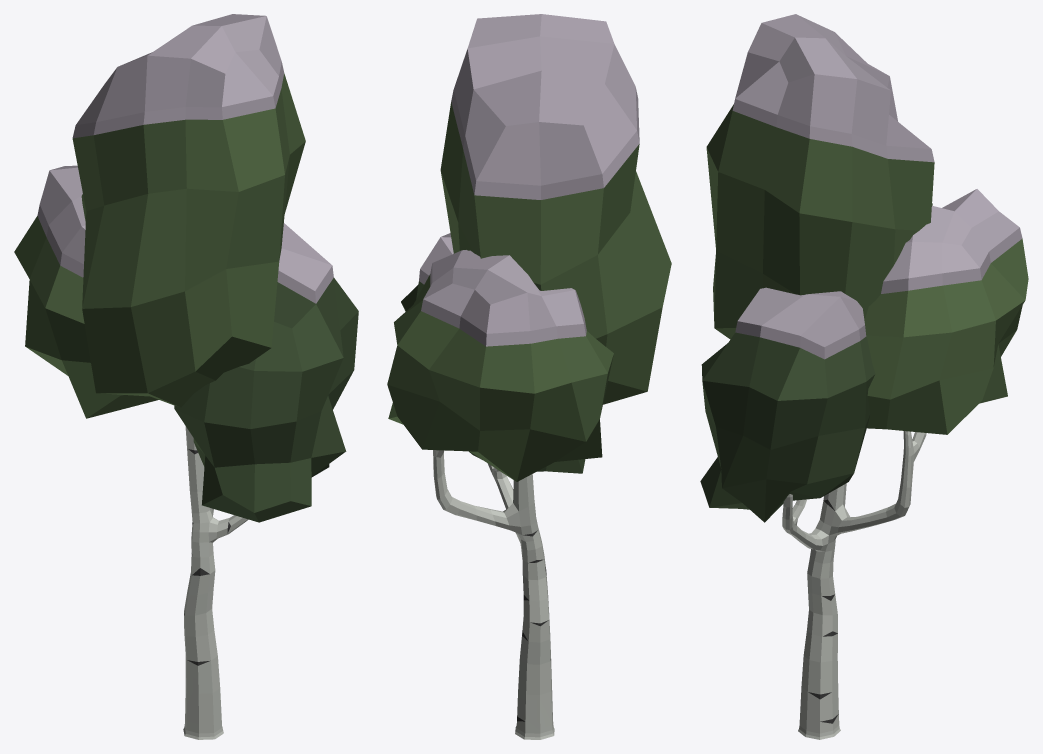
File: BirchTree_Snow_3.glb
The picture shows the model from 3 angles, left to right: view 1: azimuth 30°, elevation 25°; view 2: azimuth 150°, elevation 25°; view 3: azimuth 270°, elevation 25°; orthographic projection. The views are drawn at different scales.
Visible parts, largest first — view 1: Green, DarkGreen, Snow, White; view 2: Green, Snow, White, DarkGreen; view 3: Green, Snow, DarkGreen, White.
Part boxes in pixels (<box>): Green: <box>14,73,305,418</box>; DarkGreen: <box>174,278,358,522</box>; Snow: <box>37,14,333,303</box>; White: <box>183,426,248,739</box>; Green: <box>387,102,671,481</box>; Snow: <box>419,14,639,346</box>; White: <box>433,450,554,739</box>; DarkGreen: <box>401,281,585,473</box>; Green: <box>706,104,1028,434</box>; Snow: <box>732,14,1022,359</box>; DarkGreen: <box>700,332,875,522</box>; White: <box>782,431,926,739</box>.
Bounding box in the file's own units: 1.57 × 4.15 × 1.77.
